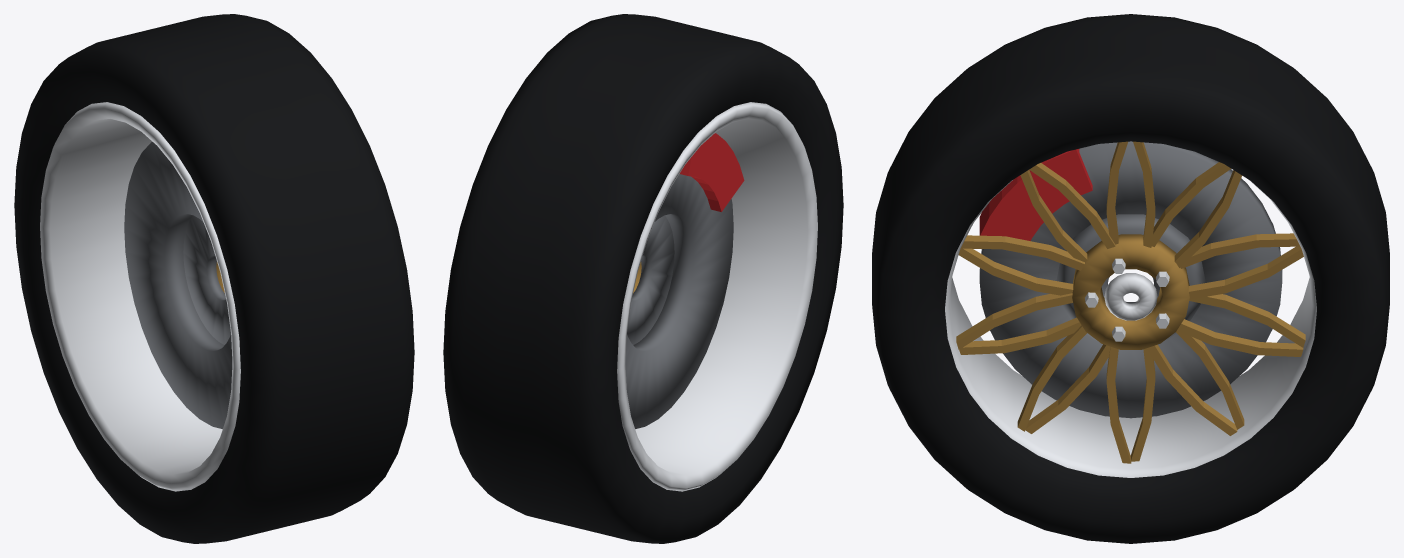
3 views of the same model, side by side, from view 1: azimuth 30°, elevation 25°; view 2: azimuth 150°, elevation 25°; view 3: azimuth 270°, elevation 25° (orthographic).
Parts seen in each view (by area): view 1: wheel, brake; view 2: wheel, brake; view 3: wheel, brake.
Boxes of the visible parts, box(x1,y1,x2,y2) form: wheel: box(14, 14, 414, 543); brake: box(124, 142, 232, 428); wheel: box(443, 14, 843, 543); brake: box(625, 133, 744, 428); wheel: box(872, 14, 1389, 543); brake: box(979, 141, 1282, 418).
Size of what is drawn, in the model's own units: 0.235 by 0.66 by 0.66.
